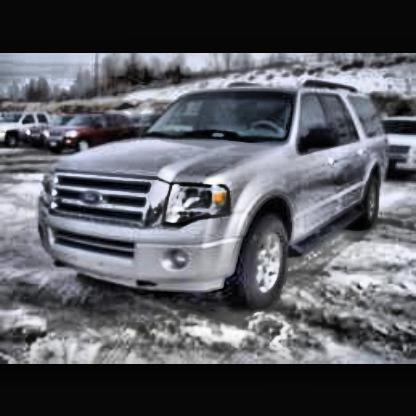Ford Expedition EL SUV 2009: (42, 79, 392, 316)
